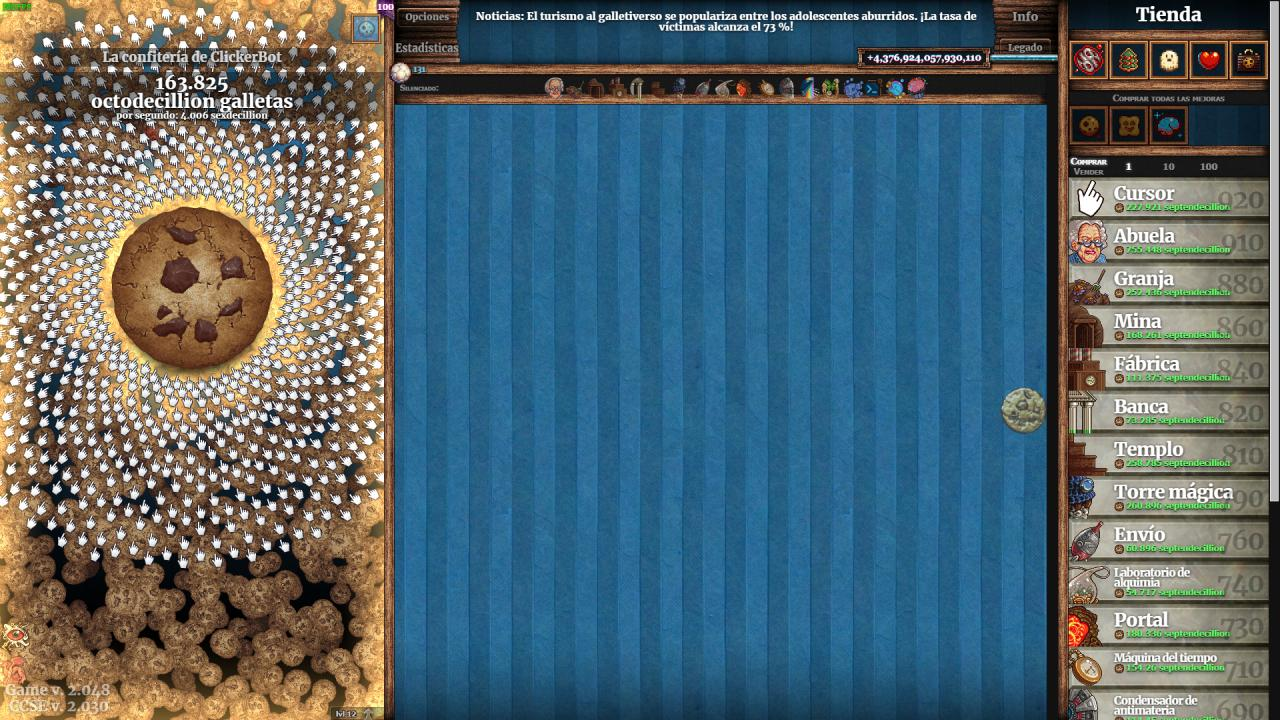GoldenCookie: (1000, 386, 1048, 437)
